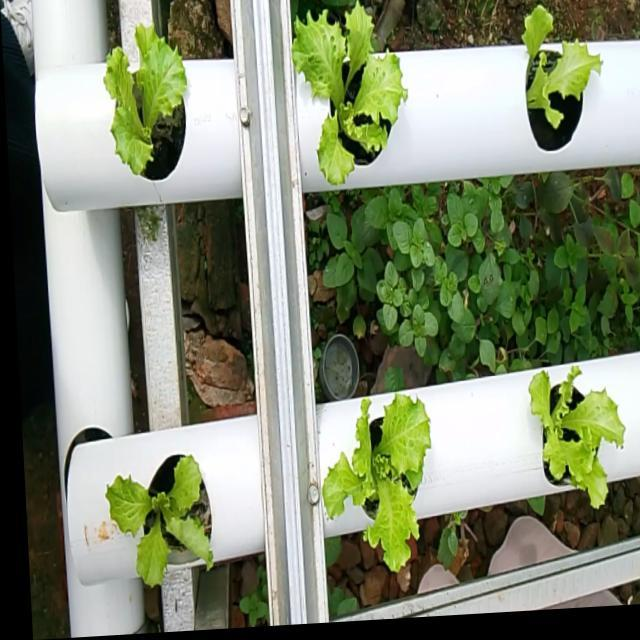Baby: (292, 1, 407, 186), (320, 392, 428, 569), (104, 450, 212, 583), (525, 368, 620, 510), (105, 23, 187, 179), (521, 13, 599, 158)
